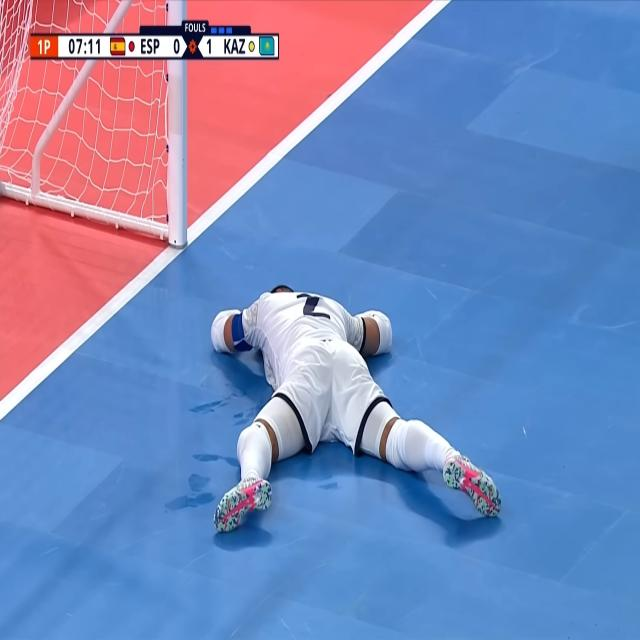Goal-keeper: (190, 272, 511, 571)
